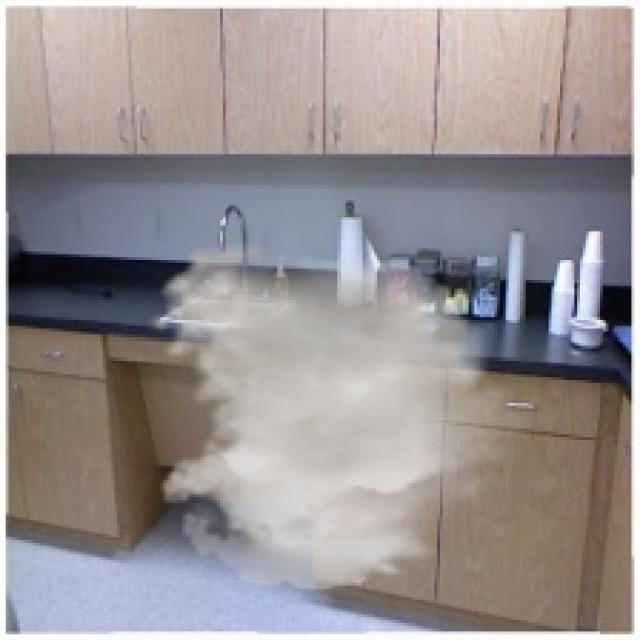smoke: (149, 243, 540, 591)
